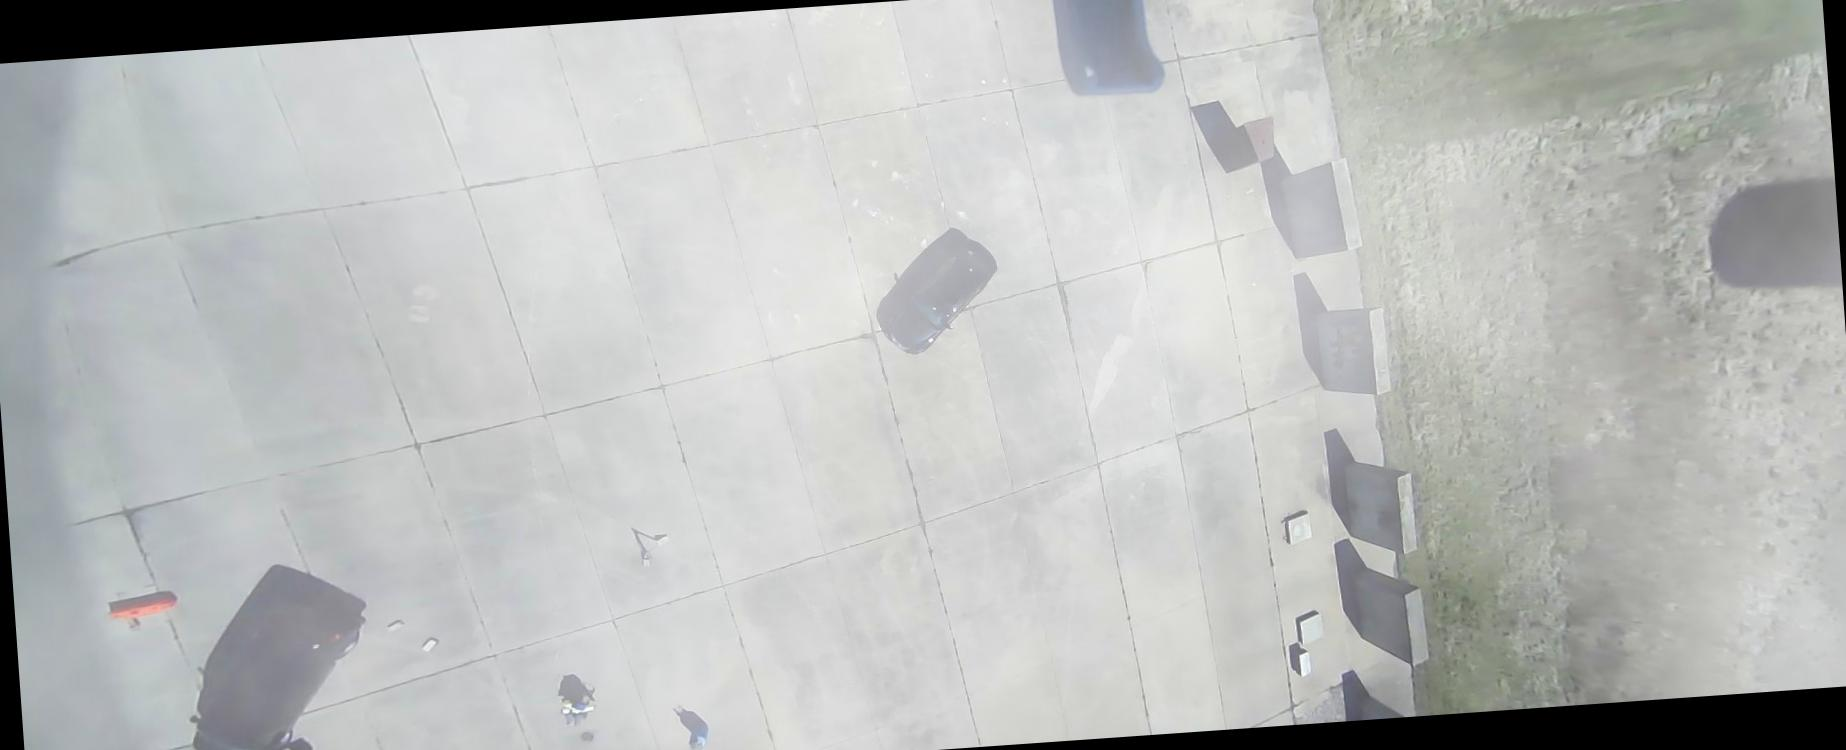vehicle: (180, 588, 376, 749), (877, 237, 1003, 358)
